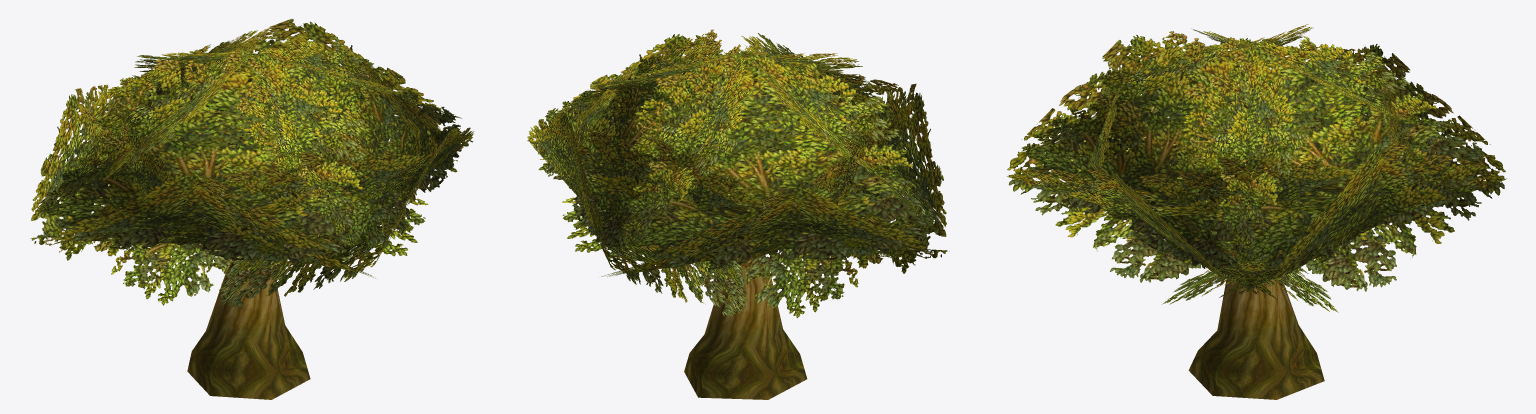
The model's file is elwynntreecanopy03.glb.
3 renders of one model, left to right at view 1: azimuth 30°, elevation 25°; view 2: azimuth 150°, elevation 25°; view 3: azimuth 270°, elevation 25°, orthographic. The views are drawn at different scales.
Size of the model in its own units: 106 by 70.95 by 102.
2 materials, 2 textured.
